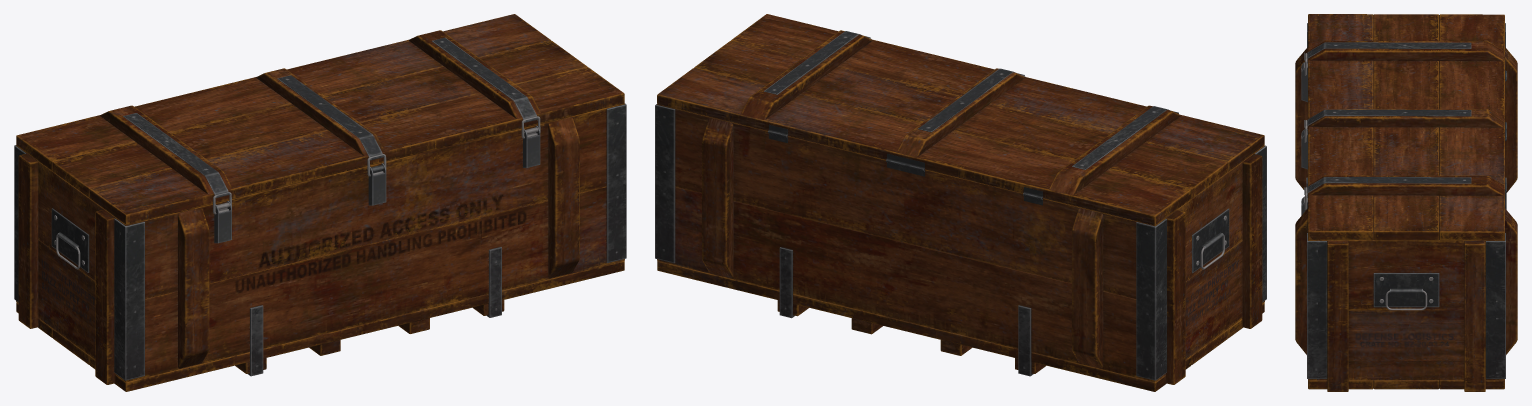
File: wooden_military_crate.glb
3 renders of one model, left to right at view 1: azimuth 30°, elevation 25°; view 2: azimuth 150°, elevation 25°; view 3: azimuth 270°, elevation 25°, orthographic. The views are drawn at different scales.
Parts seen in each view (by area): view 1: wooden_military_crate, wooden_military_crate_lid; view 2: wooden_military_crate, wooden_military_crate_lid; view 3: wooden_military_crate_lid, wooden_military_crate.
Boxes of the visible parts, bbox=[...] form: wooden_military_crate: bbox=[14, 103, 626, 391]; wooden_military_crate_lid: bbox=[16, 14, 624, 224]; wooden_military_crate: bbox=[655, 104, 1266, 391]; wooden_military_crate_lid: bbox=[657, 14, 1264, 225]; wooden_military_crate_lid: bbox=[1304, 14, 1506, 240]; wooden_military_crate: bbox=[1295, 23, 1517, 391].
Bounding box in the file's own units: 1.24 × 0.4648 × 0.5198.
1 material, 1 textured.
